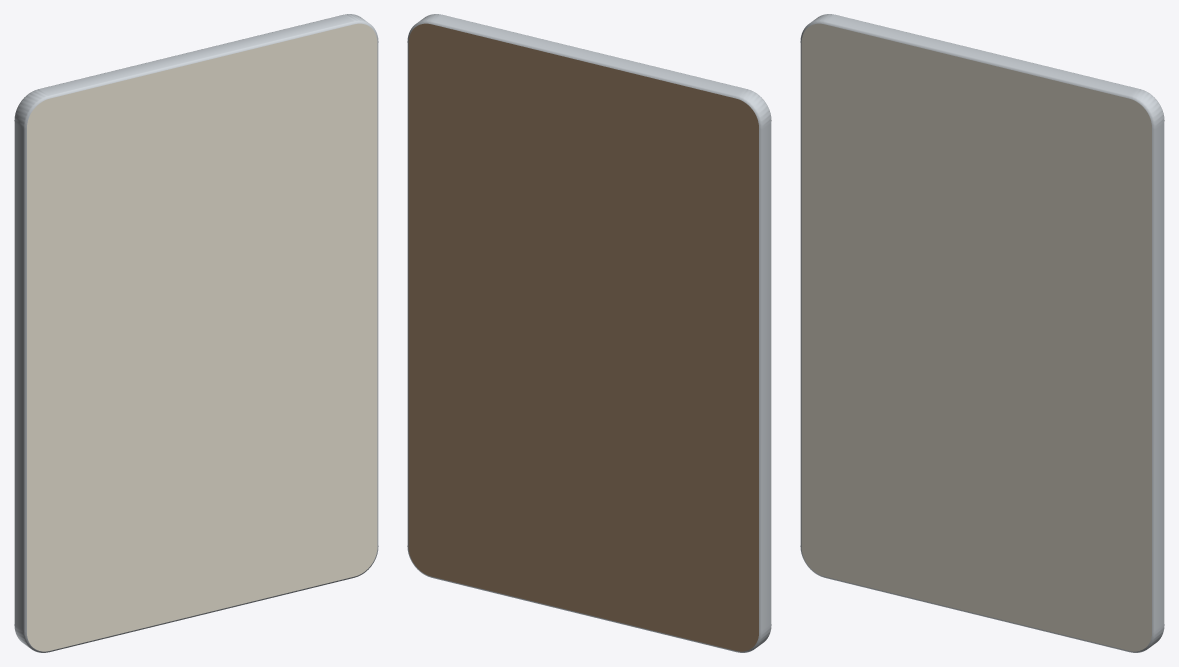
The model's file is card-slab.glb.
The picture shows the model from 3 angles, left to right: view 1: azimuth 30°, elevation 25°; view 2: azimuth 150°, elevation 25°; view 3: azimuth 330°, elevation 25°; orthographic projection.
Visible parts, largest first — view 1: card-slab; view 2: card-slab; view 3: card-slab.
Boxes of the visible parts, bbox=[...] form: card-slab: bbox=[14, 14, 378, 652]; card-slab: bbox=[407, 14, 771, 652]; card-slab: bbox=[800, 14, 1164, 652].
Size of the model in its own units: 1 by 1.5 by 0.055.
